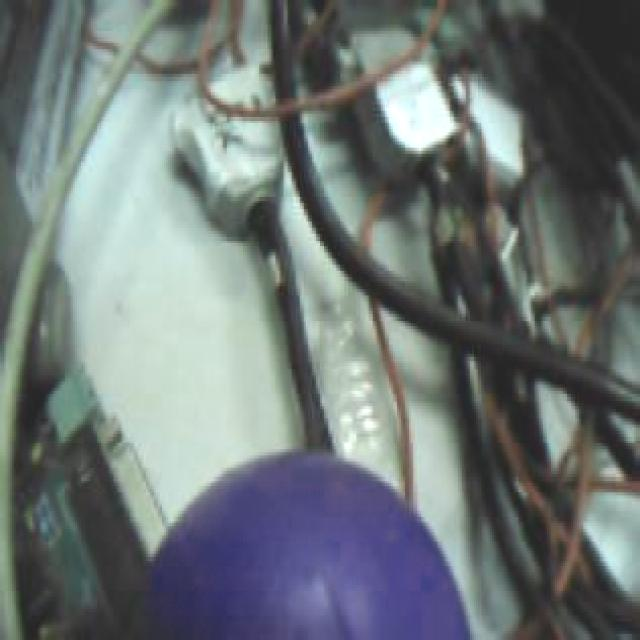BallPurple: (142, 447, 472, 640)
